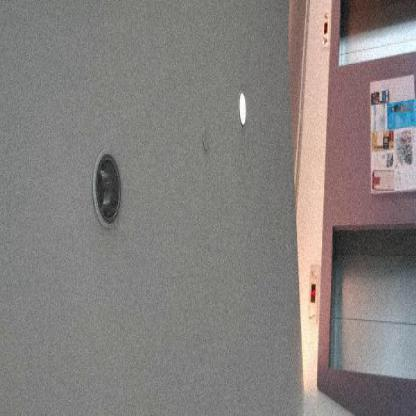light_off: (80, 130, 132, 244)
